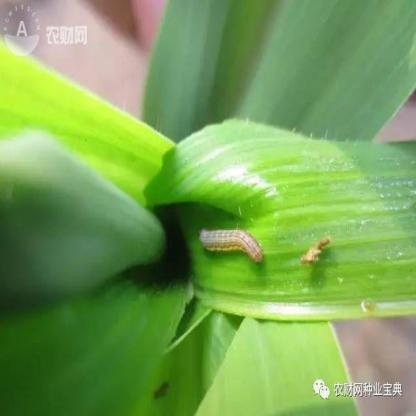armyworm: (199, 220, 268, 272)
